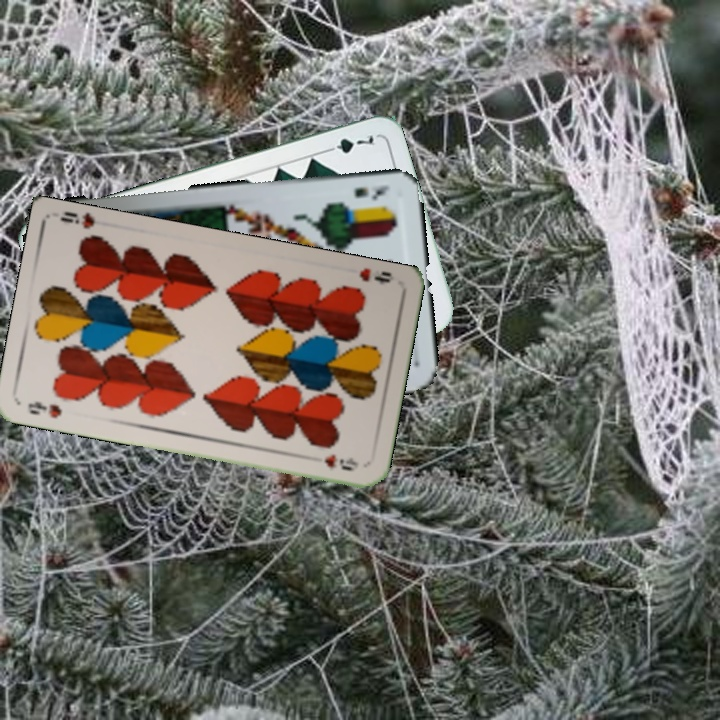EK: (350, 180, 393, 202)
G7: (319, 131, 377, 156)
H9: (24, 397, 64, 421), (355, 264, 394, 286)
